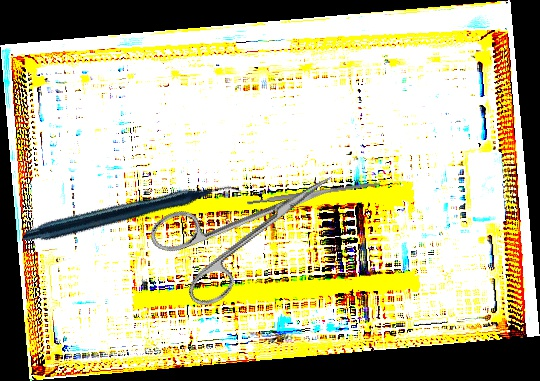Handpiece: (22, 119, 242, 311)
Iris Scissors: (144, 140, 360, 316)
Scalpel Handle: (246, 180, 381, 206)
